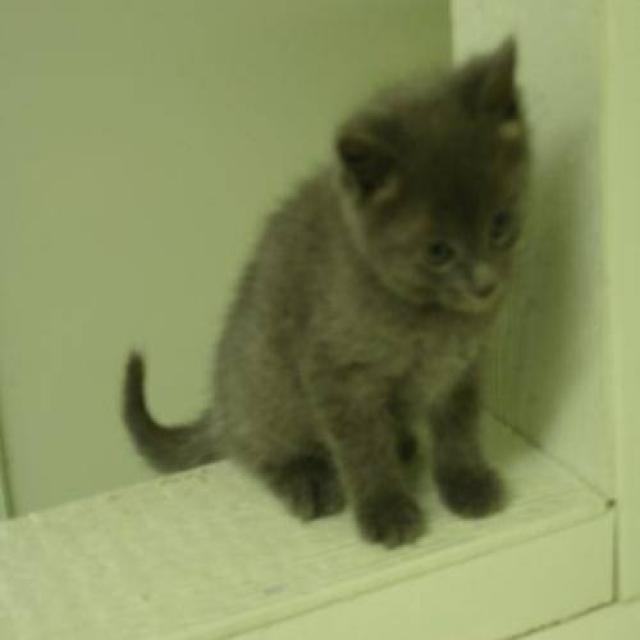cat: (120, 32, 532, 550)
